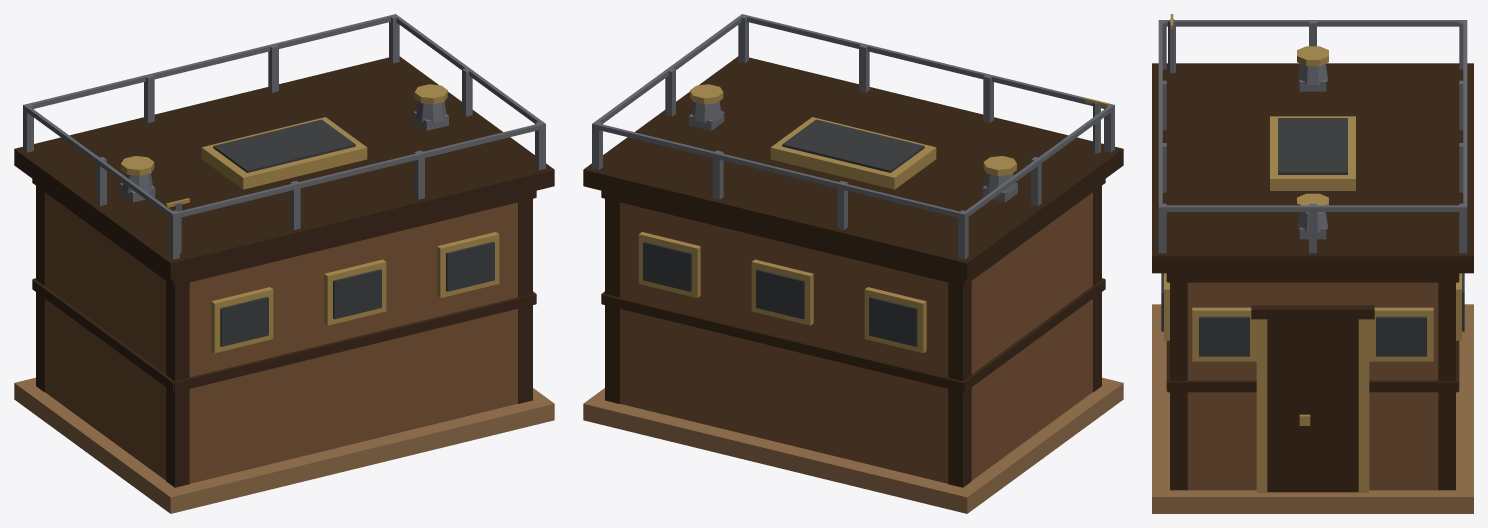
Rendered from SN_Cabin_Passenger.glb.
3 renders of one model, left to right at view 1: azimuth 30°, elevation 25°; view 2: azimuth 150°, elevation 25°; view 3: azimuth 270°, elevation 25°, orthographic. The views are drawn at different scales.
Visible parts, largest first — view 1: SN_Cabin_Passenger; view 2: SN_Cabin_Passenger; view 3: SN_Cabin_Passenger.
Boxes of the visible parts, x1=… form: SN_Cabin_Passenger: x1=14, y1=14, x2=554, y2=513; SN_Cabin_Passenger: x1=583, y1=14, x2=1123, y2=513; SN_Cabin_Passenger: x1=1152, y1=14, x2=1473, y2=513.
Size of the model in its own units: 3.4 by 2.55 by 2.4.
